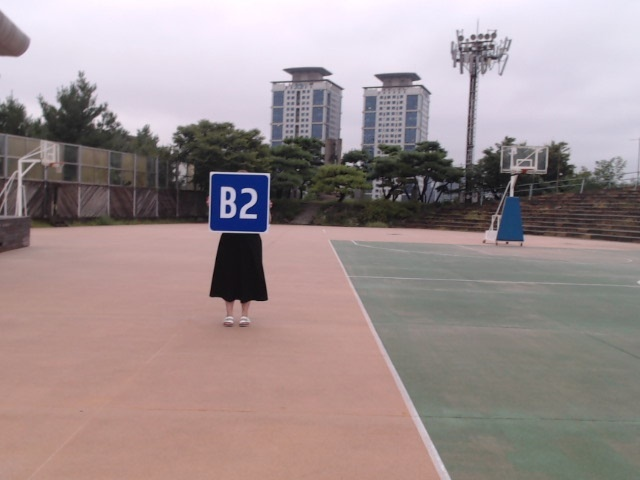delivery_b2: (209, 172, 270, 234)
